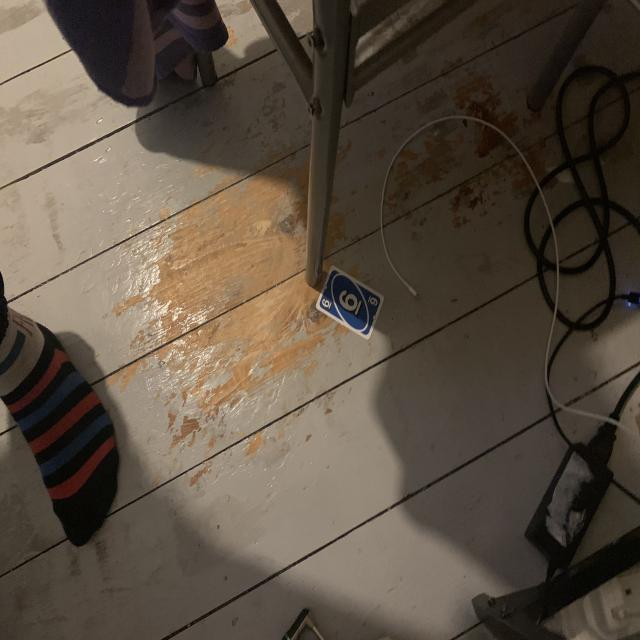lblue-6: (321, 297, 333, 310)
